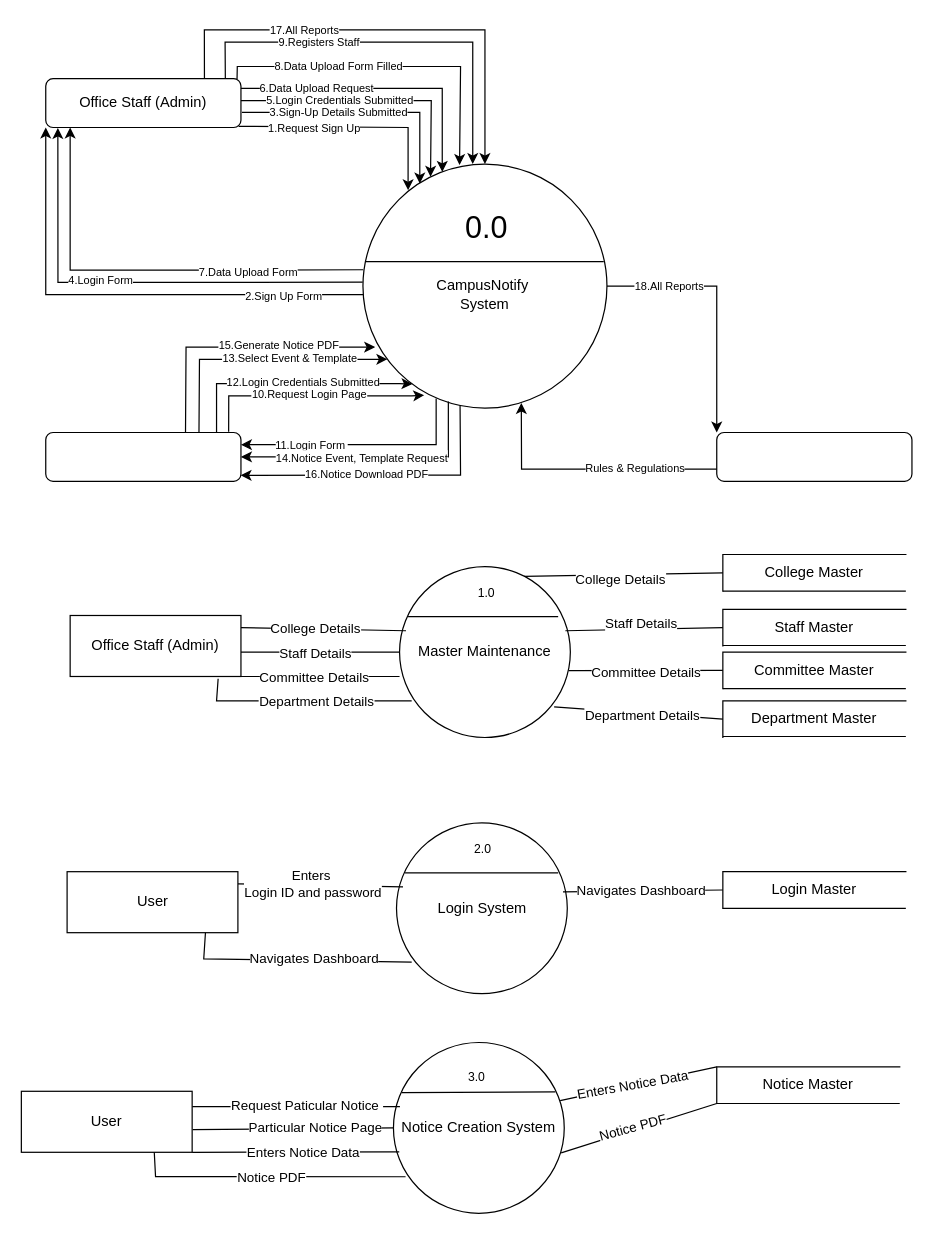
The diagram is 933 pixels wide and 1235 high, and some of its shapes have lost their labels. Each missing label, with the centre of its shape:
Principal/Society: [814,456]
Teaching Staff: [143,456]
